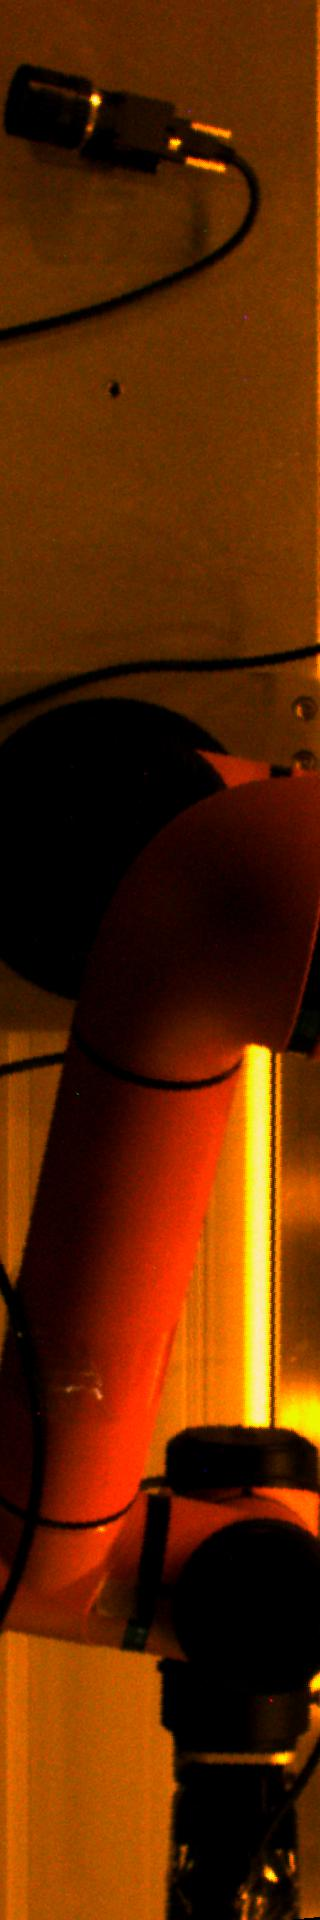keyPoint_2: (99, 376, 129, 407)
